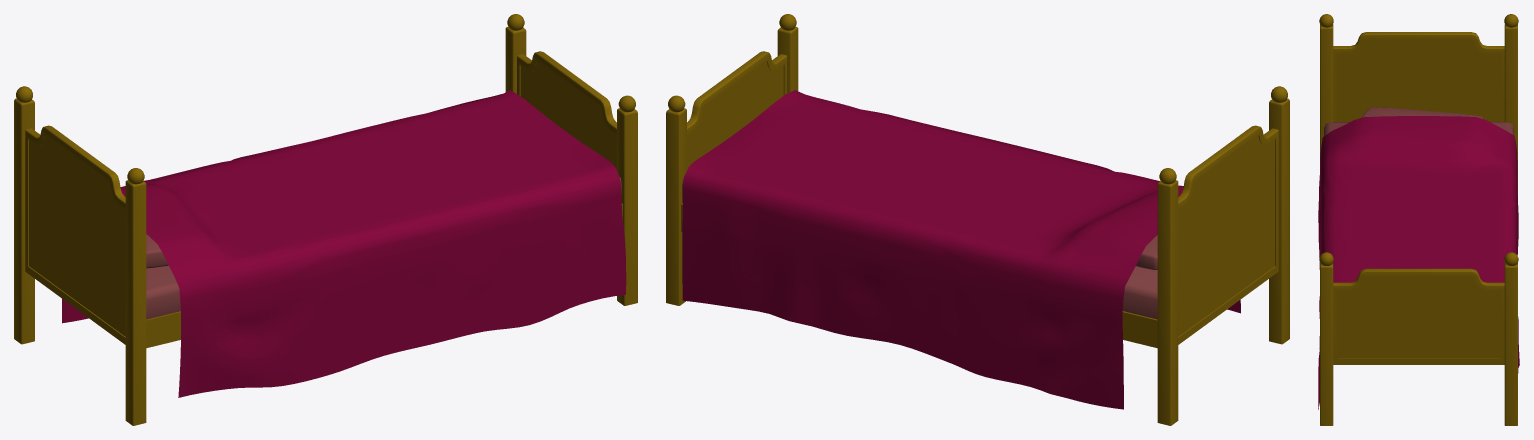
File: SM_Bed.fbx
3 renders of one model, left to right at view 1: azimuth 30°, elevation 25°; view 2: azimuth 150°, elevation 25°; view 3: azimuth 270°, elevation 25°, orthographic. The views are drawn at different scales.
Visible parts, largest first — view 1: SM_Bed; view 2: SM_Bed; view 3: SM_Bed.
Boxes of the visible parts, bbox=[...] form: SM_Bed: bbox=[14, 14, 637, 425]; SM_Bed: bbox=[666, 14, 1289, 425]; SM_Bed: bbox=[1318, 14, 1519, 425].
Size of the model in its own units: 220 by 105 by 91.75.
